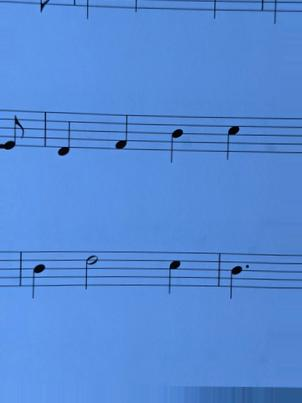B: (26, 246, 48, 304), (167, 110, 186, 165), (227, 248, 245, 303)
D: (54, 108, 76, 160)
F: (111, 110, 134, 157)
HC: (163, 247, 183, 303), (221, 112, 241, 162)
